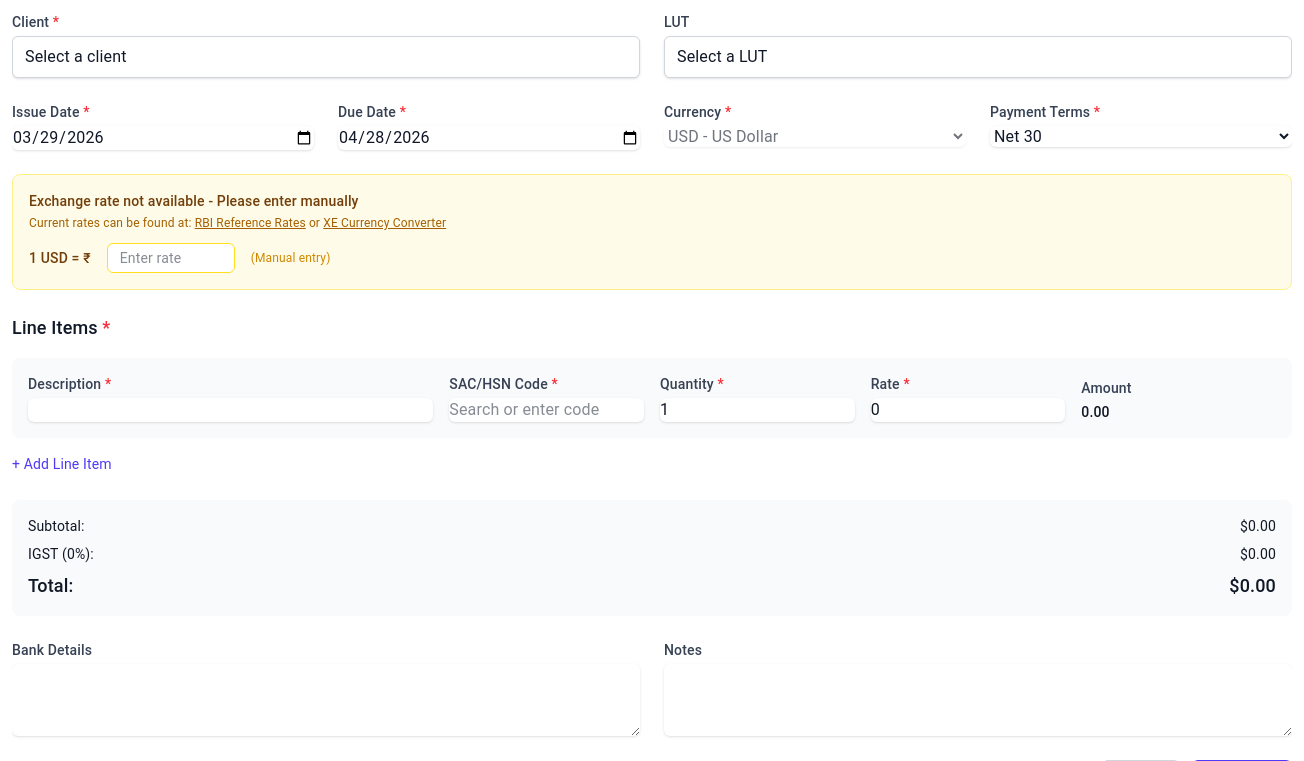
Scenario: InvoiceForm › should show LUT declaration when LUT is selected
// Select LUT
Click the button labelled "Select a LUT": (722, 56) [664,36,1292,78]
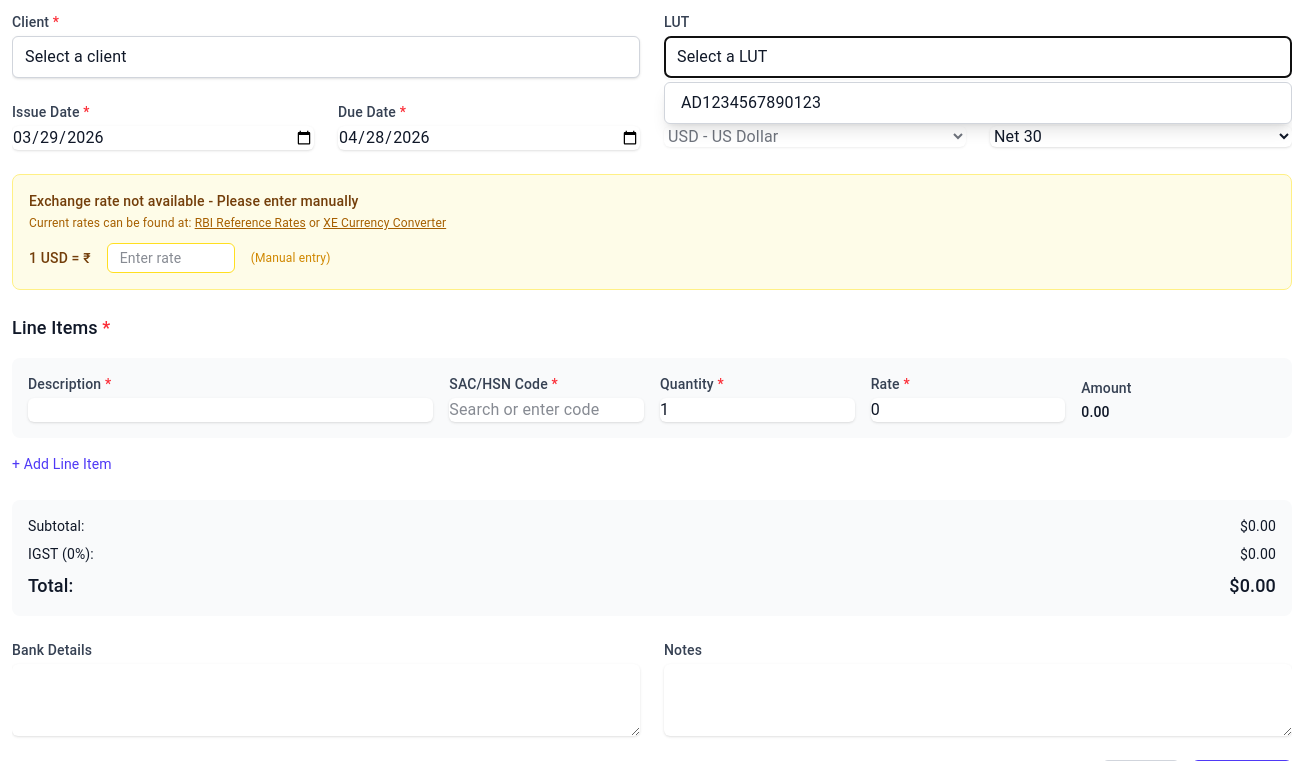
Click the option "AD1234567890123": (751, 102) [665,83,1291,123]
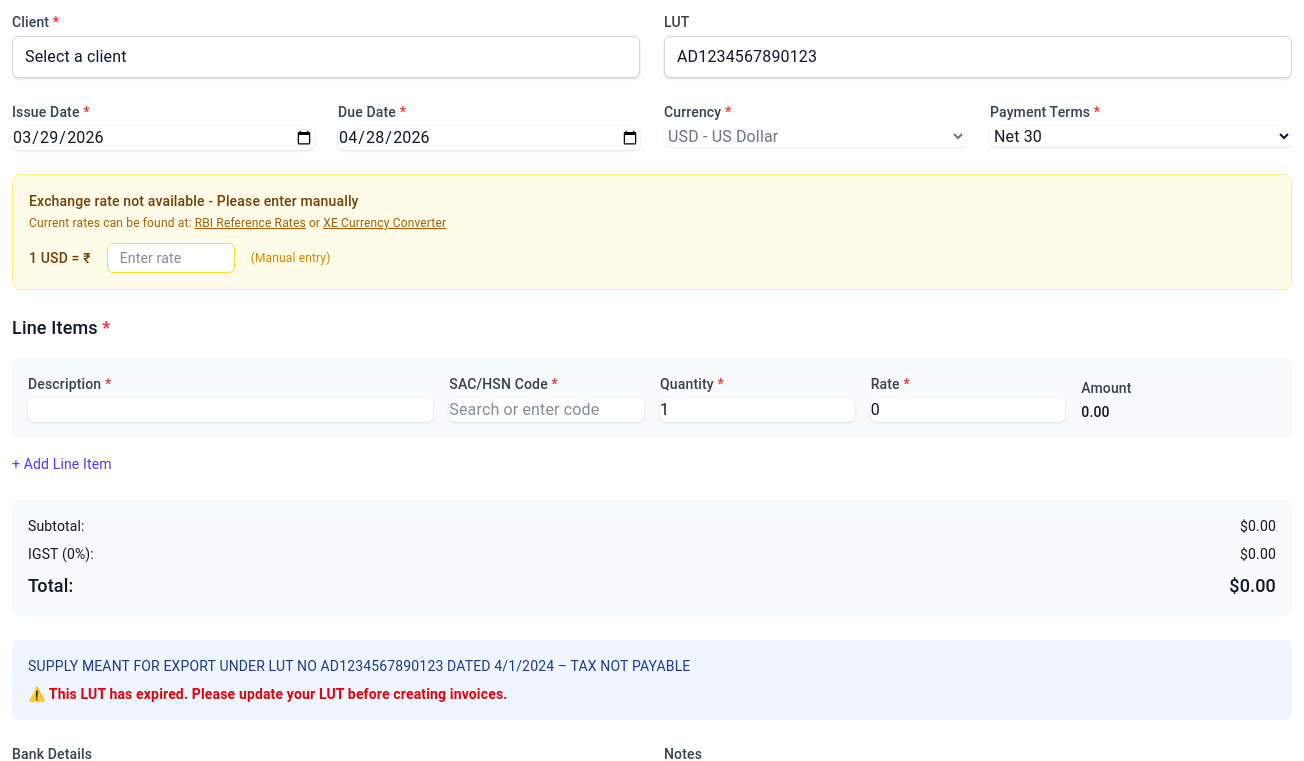
Result: the text "SUPPLY MEANT FOR EXPORT UNDER LUT" is shown at [28,658,321,674]
Result: the text "tax not payable" is shown at [554,658,690,674]
